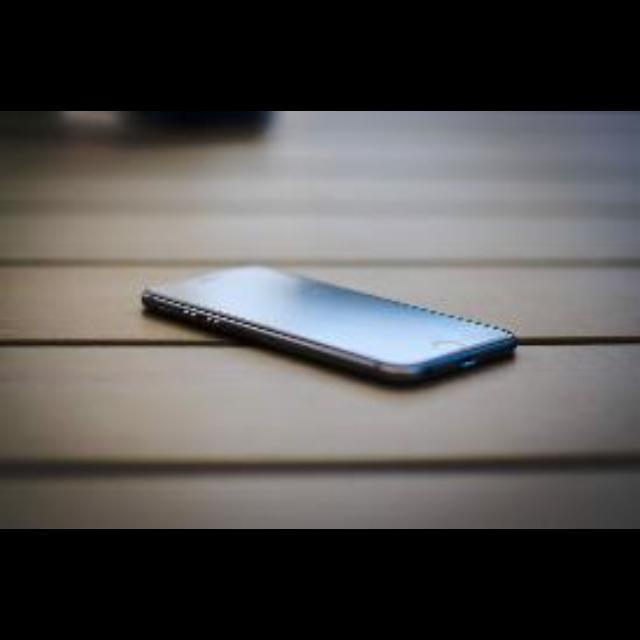PhoneUse: (98, 228, 536, 394)
